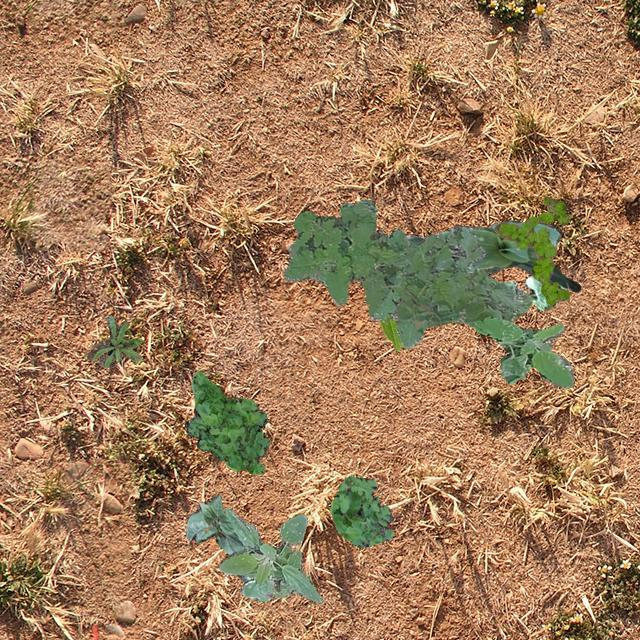crop: (404, 220, 580, 290), (218, 506, 322, 602), (186, 492, 243, 554), (500, 274, 550, 310), (378, 314, 402, 349)
weed: (282, 198, 532, 346), (184, 369, 268, 474), (494, 196, 568, 306), (472, 316, 574, 388), (328, 474, 392, 546), (86, 314, 142, 366)
